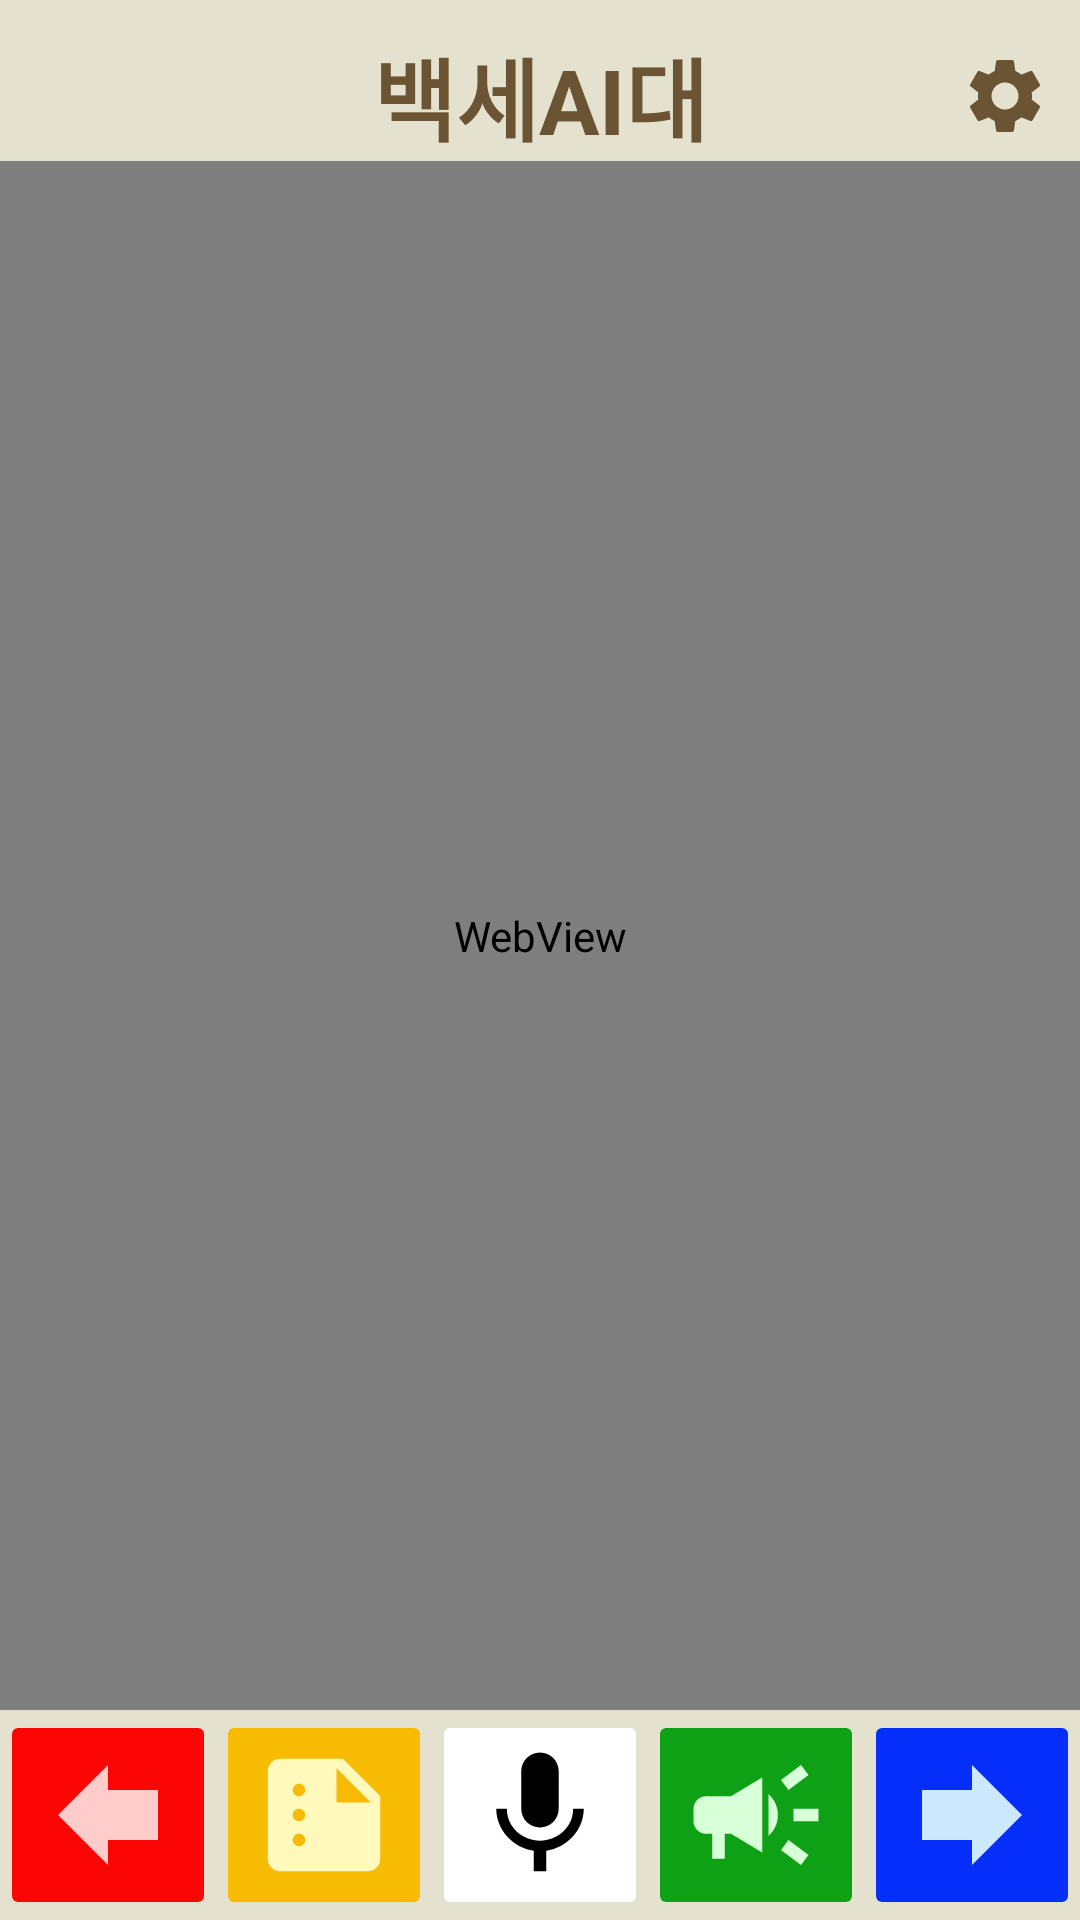

Locate icon controls on the screen. Image size 1080*1920, boxes as bbox(x1, y1, x2, y2).
campaign: bbox(660, 1728, 852, 1902)
forward: bbox(876, 1728, 1068, 1902)
mic: bbox(444, 1728, 636, 1902)
settings: bbox(970, 60, 1040, 132)
summarize: bbox(228, 1728, 420, 1902)
